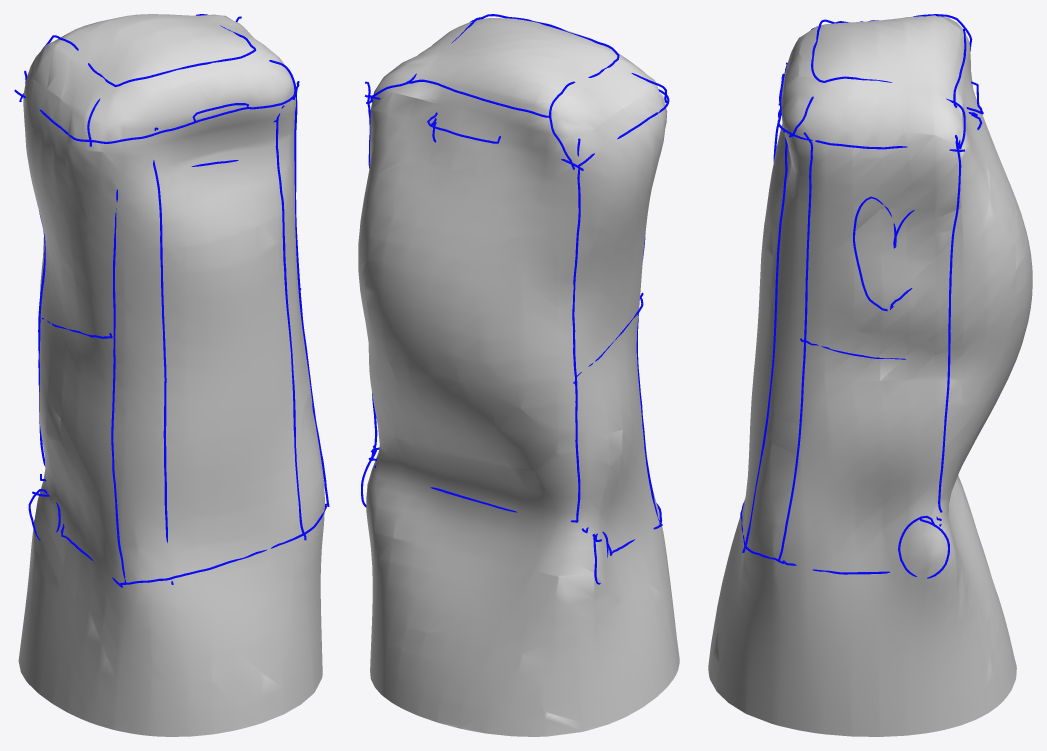
The model's file is scaffold_sketch_P3_trash_sketch_proxy.glb.
3 renders of one model, left to right at view 1: azimuth 30°, elevation 25°; view 2: azimuth 150°, elevation 25°; view 3: azimuth 270°, elevation 25°, orthographic.
Parts seen in each view (by area): view 1: scaffold_sketch_P3_trash_surface, scaffold_sketch_P3_trash; view 2: scaffold_sketch_P3_trash_surface, scaffold_sketch_P3_trash; view 3: scaffold_sketch_P3_trash_surface, scaffold_sketch_P3_trash.
Part boxes in pixels (x1,y1,x2,y2): scaffold_sketch_P3_trash_surface: (18,14,324,736); scaffold_sketch_P3_trash: (14,14,329,587); scaffold_sketch_P3_trash_surface: (358,18,679,736); scaffold_sketch_P3_trash: (361,14,669,584); scaffold_sketch_P3_trash_surface: (708,15,1032,736); scaffold_sketch_P3_trash: (740,14,983,578).
Bounding box in the file's own units: 0.5426 × 1.29 × 0.5967.
